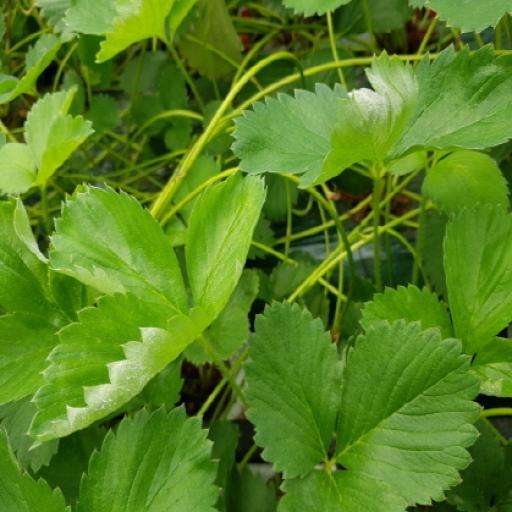Powdery Mildew Leaf: (26, 292, 201, 452), (228, 48, 421, 190)
